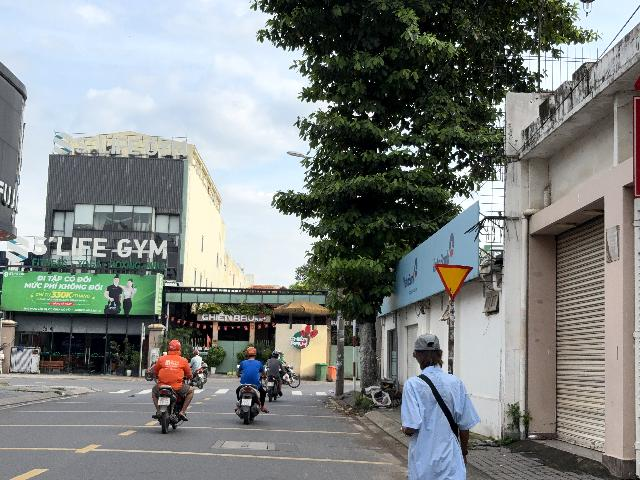giao-nhau-voi-duong-uu-tien: (435, 263, 473, 300)
